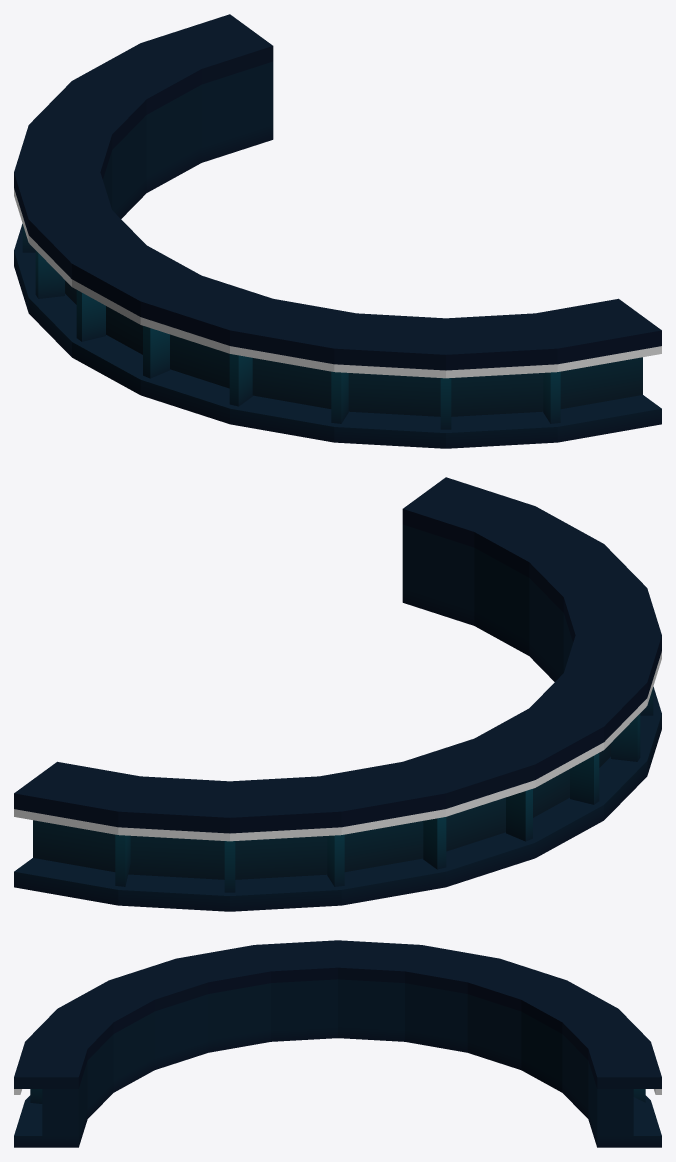
File: Bar.fbx
3 renders of one model, top to bottom at view 1: azimuth 30°, elevation 25°; view 2: azimuth 150°, elevation 25°; view 3: azimuth 270°, elevation 25°, orthographic. The views are drawn at different scales.
Visible parts, largest first — view 1: Plane.027, Plane.037; view 2: Plane.027, Plane.037; view 3: Plane.027.
Boxes of the visible parts, x1,y1,x2,y2 form: Plane.027: (14,14,661,448); Plane.037: (14,188,661,378); Plane.027: (14,477,661,911); Plane.037: (14,651,661,841); Plane.027: (14,940,661,1147).
Size of the model in its own units: 500 by 120 by 1000.
